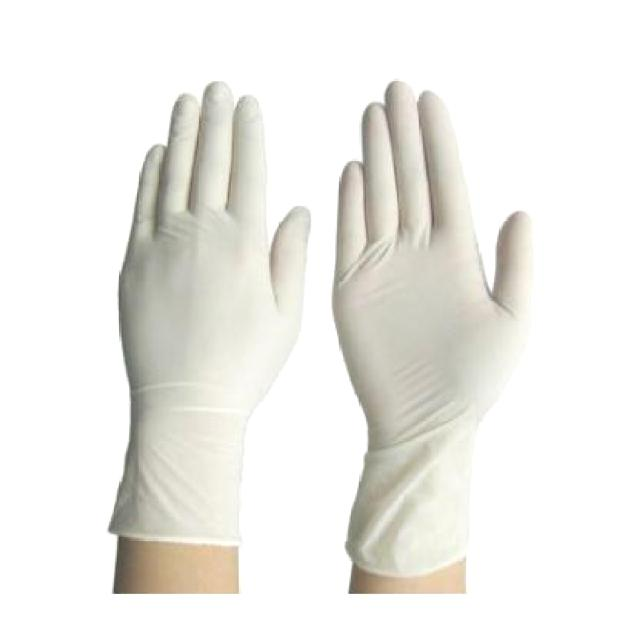glove: (72, 70, 310, 593), (320, 77, 548, 589)
